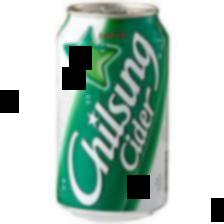chilsungcider: (56, 1, 170, 222)
